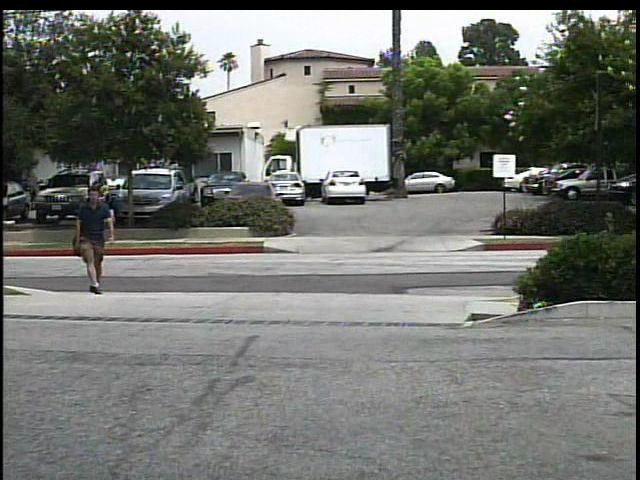person: (74, 184, 121, 295)
